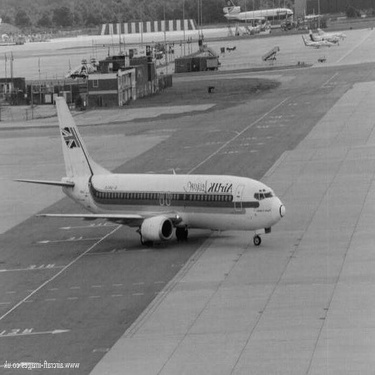airplane: (18, 92, 306, 254), (334, 221, 335, 225)
